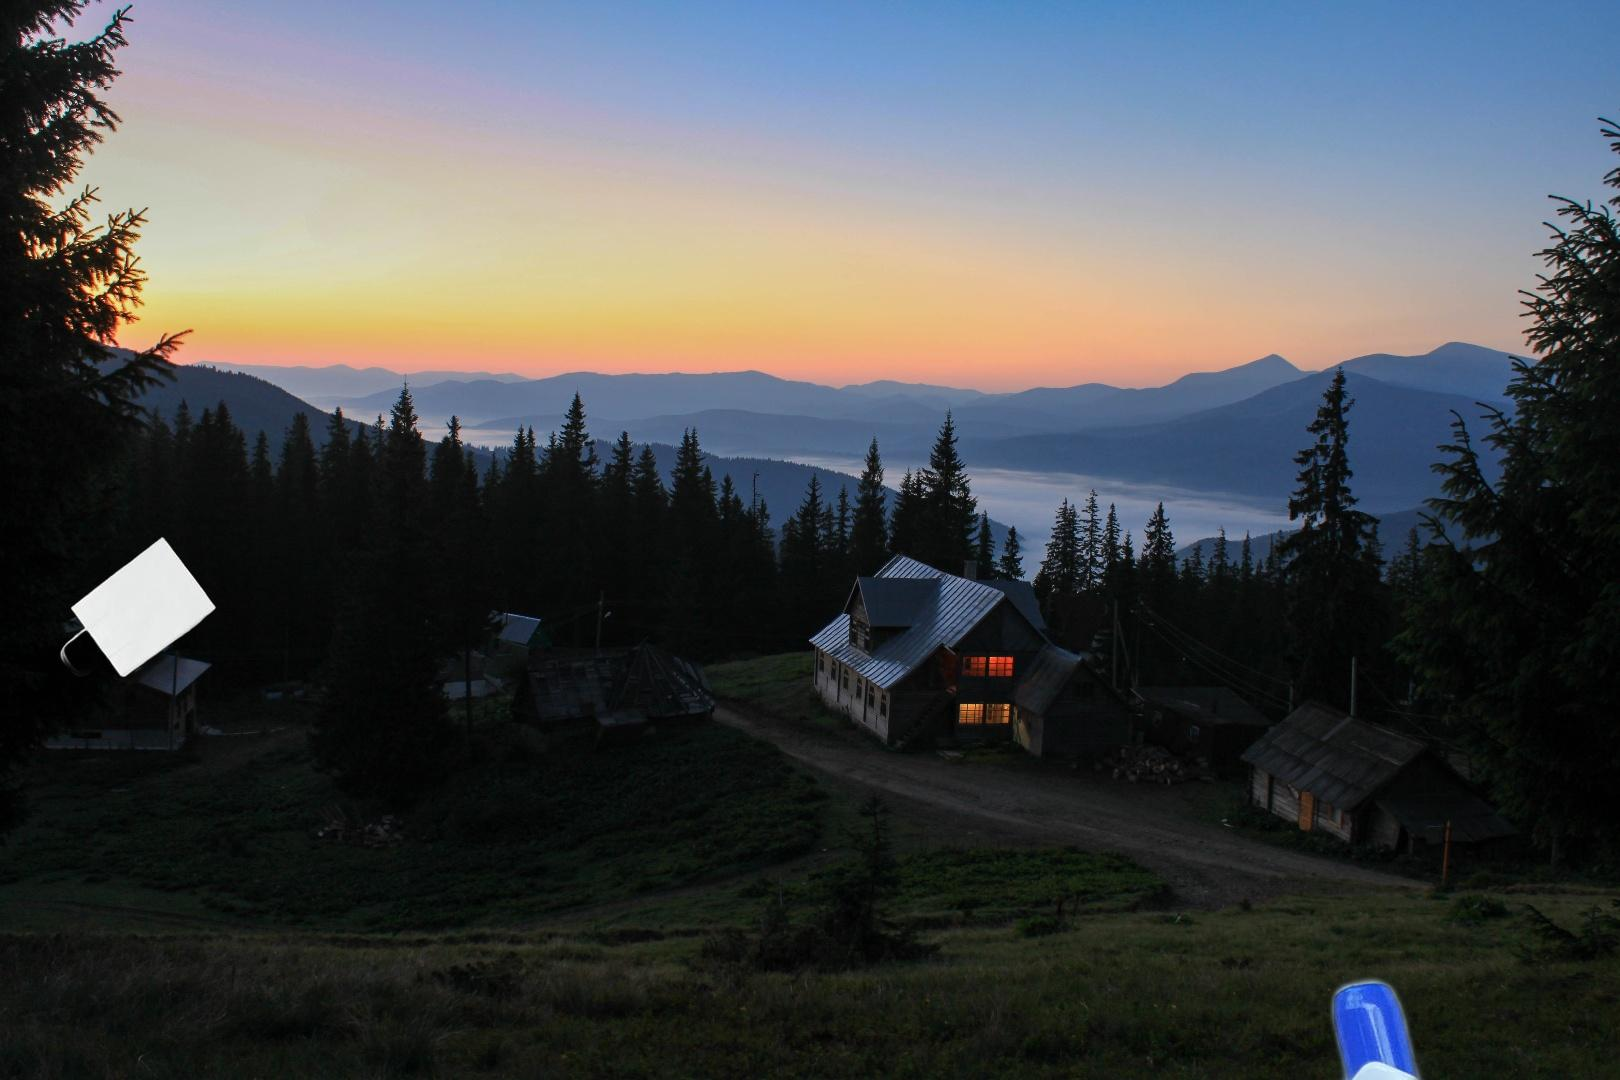paper-bag: (57, 534, 217, 681)
penholder: (1287, 828, 1620, 1080)
trashbox-cardboard: (1436, 669, 1620, 1053)
